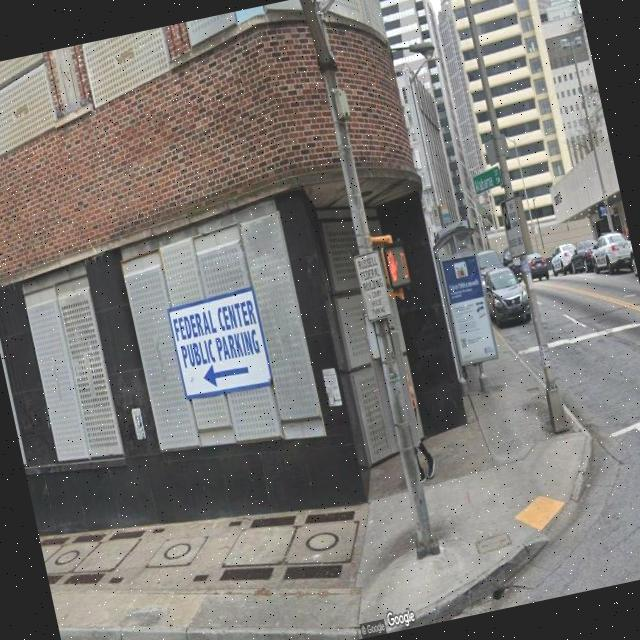shelter: (428, 222, 510, 402)
